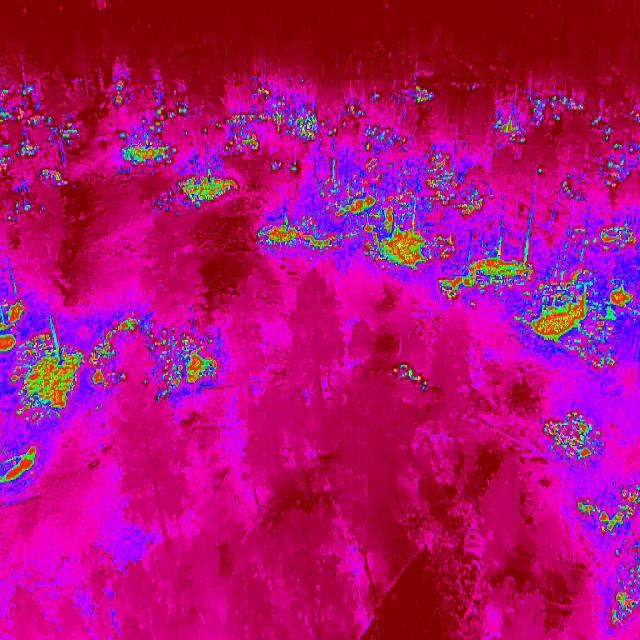fire: (320, 147, 536, 309), (0, 303, 137, 426), (0, 70, 80, 228), (514, 278, 639, 370), (217, 86, 336, 173), (573, 478, 640, 626), (110, 69, 198, 171), (142, 324, 224, 404), (256, 215, 356, 265), (335, 102, 414, 158), (537, 407, 604, 465), (175, 166, 242, 212), (597, 140, 640, 201), (573, 218, 640, 256), (532, 85, 590, 124), (0, 441, 43, 491), (390, 353, 432, 398), (486, 100, 524, 142), (390, 81, 440, 112), (558, 172, 594, 206), (590, 100, 618, 140), (624, 98, 640, 128)
